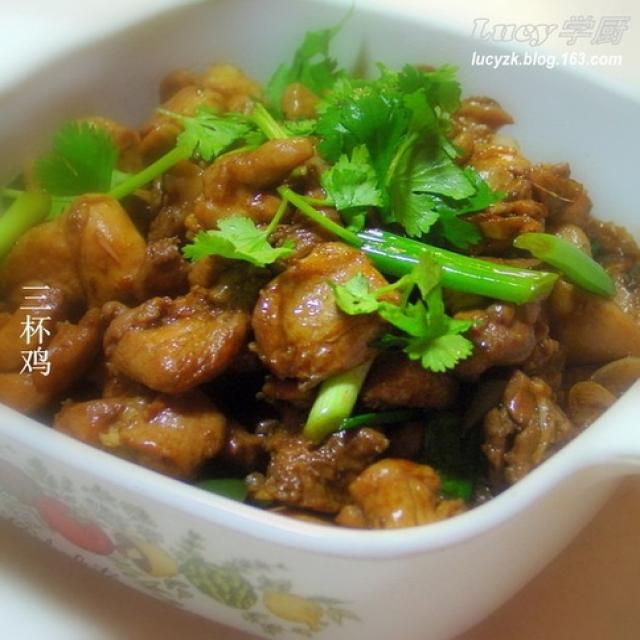鸡肉料理 含炸鸡: (32, 21, 611, 581)
